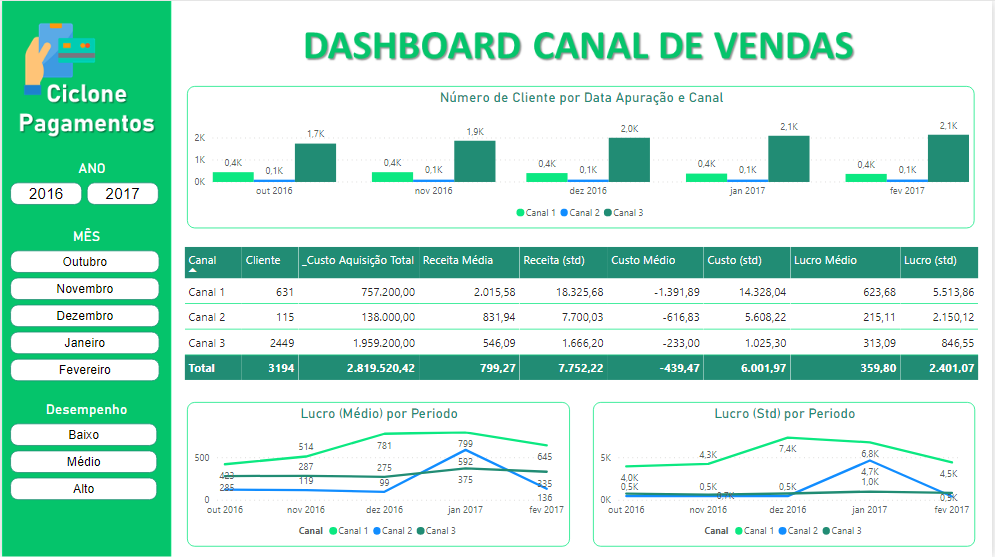

Layout of this report page (visuals, bound fields, positions):
{"tool":"powerbi","page":{"name":"Vendas","canvas":[1280,720],"ordinal":3},"visuals":[{"type":"ChicletSlicer1448559807354","title":"ANO","fields":{"Category":["Clientes.Data Apuração.Variation.Date Hierarchy.Year"]},"box":[2.8,205.1,227.1,88.1],"z":0},{"type":"ChicletSlicer1448559807354","title":"MÊS","fields":{"Category":["Clientes.Mês Apuração"]},"box":[2.8,293.2,213.3,224.3],"z":1000},{"type":"ChicletSlicer1448559807354","title":"Desempenho","fields":{"Category":["Clientes.Cluster"]},"box":[2.8,517.5,213.3,150],"z":2000},{"type":"clusteredColumnChart","title":"Número de Cliente por Data Apuração e Canal","fields":{"Category":["Clientes.Data Apuração"],"Series":["Clientes.Canal"],"Y":["Count(Clientes.Número do Cliente)"]},"box":[239.7,109.4,1018.2,184.2],"z":3000},{"type":"tableEx","fields":{"Values":["Clientes.Canal","Clientes.Número do Cliente","Clientes._Custo Aquisição Canal3","Avg(Clientes.Total (Receita))","Sum(Clientes.Total (Receita))1","Avg(Clientes.Total (Custos))","Sum(Clientes.Total (Custos))1","Avg(Clientes.Lucro )","Sum(Clientes.Lucro )1"]},"box":[230,313.1,1039,205],"z":4000},{"type":"lineChart","title":"Lucro (Médio)  por Periodo","fields":{"Y":["Avg(Clientes.Lucro )"],"Category":["Clientes.Data Apuração"],"Series":["Clientes.Canal"]},"box":[239.7,518.1,495,187],"z":5000},{"type":"lineChart","title":"Lucro (Std)  por Periodo","fields":{"Y":["Sum(Clientes.Lucro )"],"Category":["Clientes.Data Apuração"],"Series":["Clientes.Canal"]},"box":[764,518.3,494.2,187.5],"z":6000}]}

Visuals, with their boxes in screenshot pixels (x1, y1, x2, y2), scaled from the page's 1280x720 canvas onto the 995x557 screenshot:
"ANO" ChicletSlicer1448559807354: (2,159,179,227)
"MÊS" ChicletSlicer1448559807354: (2,227,168,400)
"Desempenho" ChicletSlicer1448559807354: (2,400,168,516)
"Número de Cliente por Data Apuração e Canal" clusteredColumnChart: (186,85,978,227)
tableEx - Clientes.Canal x Clientes.Número do Cliente: (179,242,986,401)
"Lucro (Médio)  por Periodo" lineChart: (186,401,571,545)
"Lucro (Std)  por Periodo" lineChart: (594,401,978,546)
